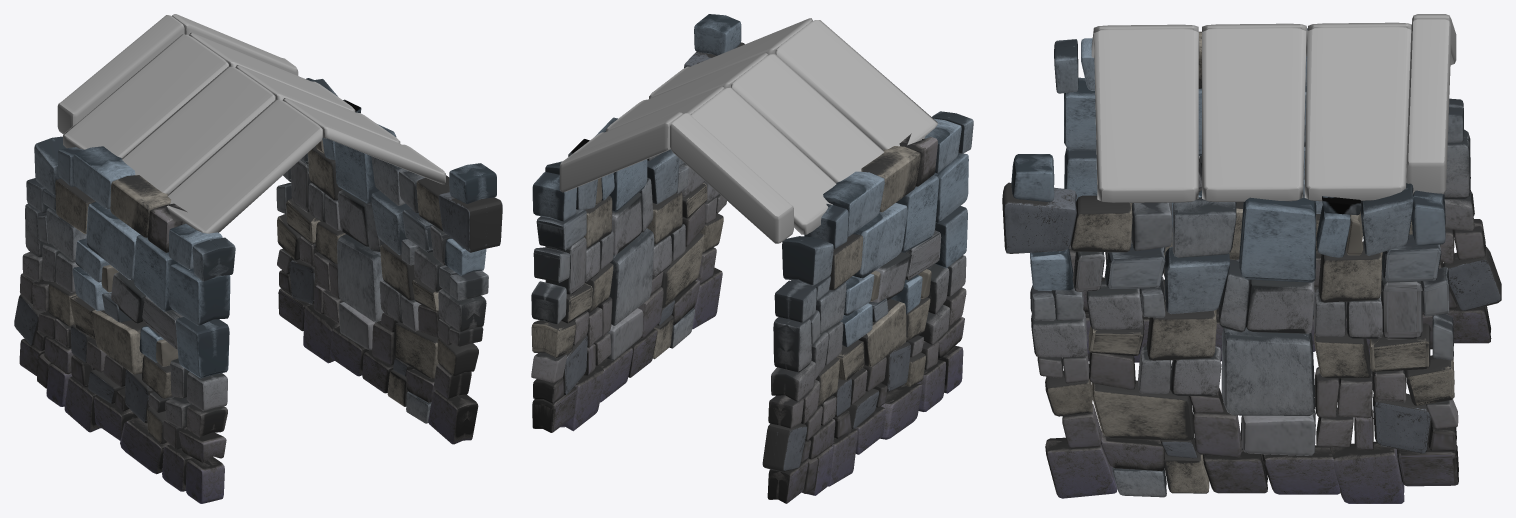
Rendered from porch_01.fbx.
3 views of the same model, side by side, from view 1: azimuth 30°, elevation 25°; view 2: azimuth 150°, elevation 25°; view 3: azimuth 270°, elevation 25° (orthographic). The views are drawn at different scales.
Parts seen in each view (by area): view 1: polySurface138, pCube266, pCube264, pCube265, pCube259, pCube261; view 2: polySurface138, pCube266, pCube265, pCube264, pCube259, pCube261; view 3: polySurface138, pCube266, pCube265, pCube264, pCube261.
Part boxes in pixels (x1,y1,x2,y2): polySurface138: [14, 78, 502, 503]; pCube266: [167, 98, 445, 233]; pCube264: [63, 32, 355, 157]; pCube265: [122, 65, 400, 193]; pCube259: [57, 15, 184, 134]; pCube261: [172, 14, 298, 75]; polySurface138: [531, 14, 973, 503]; pCube266: [649, 18, 937, 149]; pCube265: [606, 52, 884, 182]; pCube264: [571, 86, 836, 234]; pCube259: [670, 113, 793, 243]; pCube261: [559, 112, 682, 192]; polySurface138: [1002, 28, 1501, 503]; pCube266: [1091, 24, 1199, 202]; pCube265: [1202, 23, 1307, 202]; pCube264: [1304, 22, 1411, 201]; pCube261: [1406, 19, 1450, 194].
Bounding box in the file's own units: 760 × 893 × 970.
